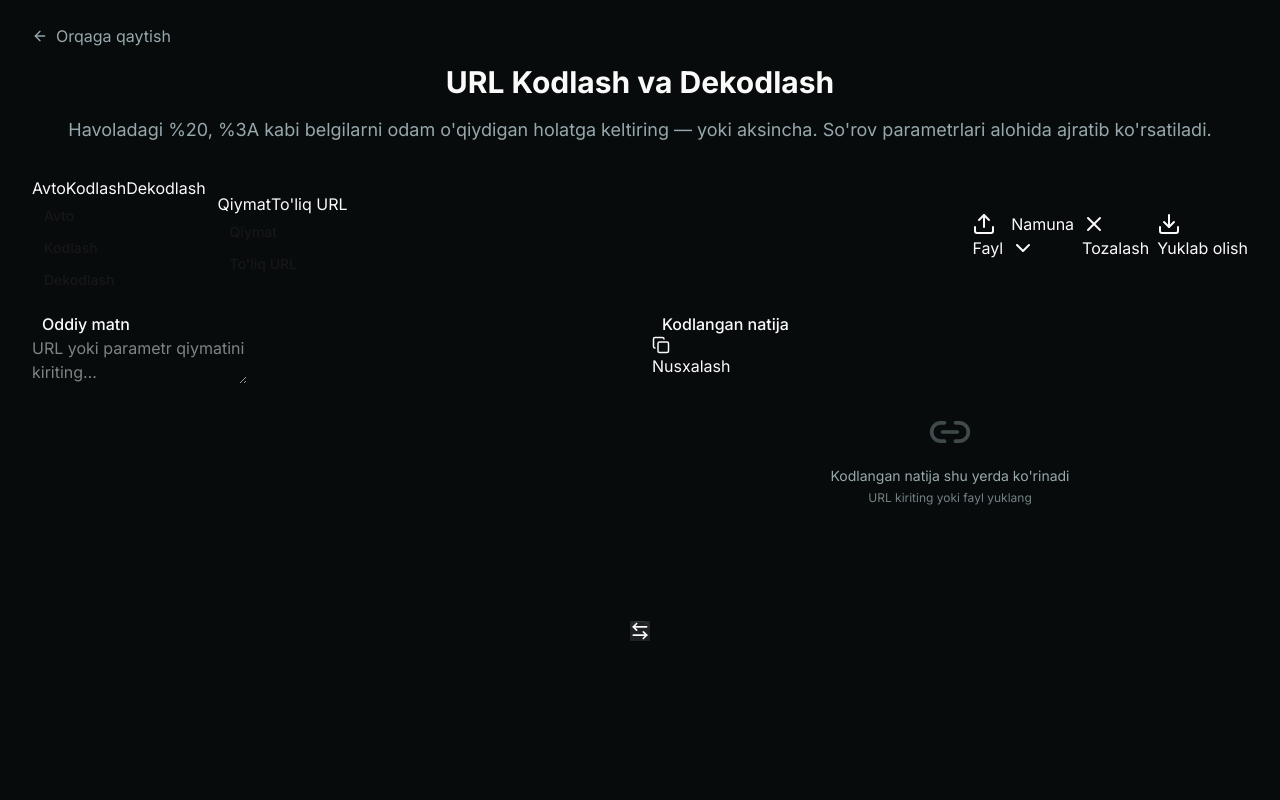
saying what happened › names the no-op instead of looking broken
Click the radio button labelled "Dekodlash" at (166, 188), box [126,178,206,198]
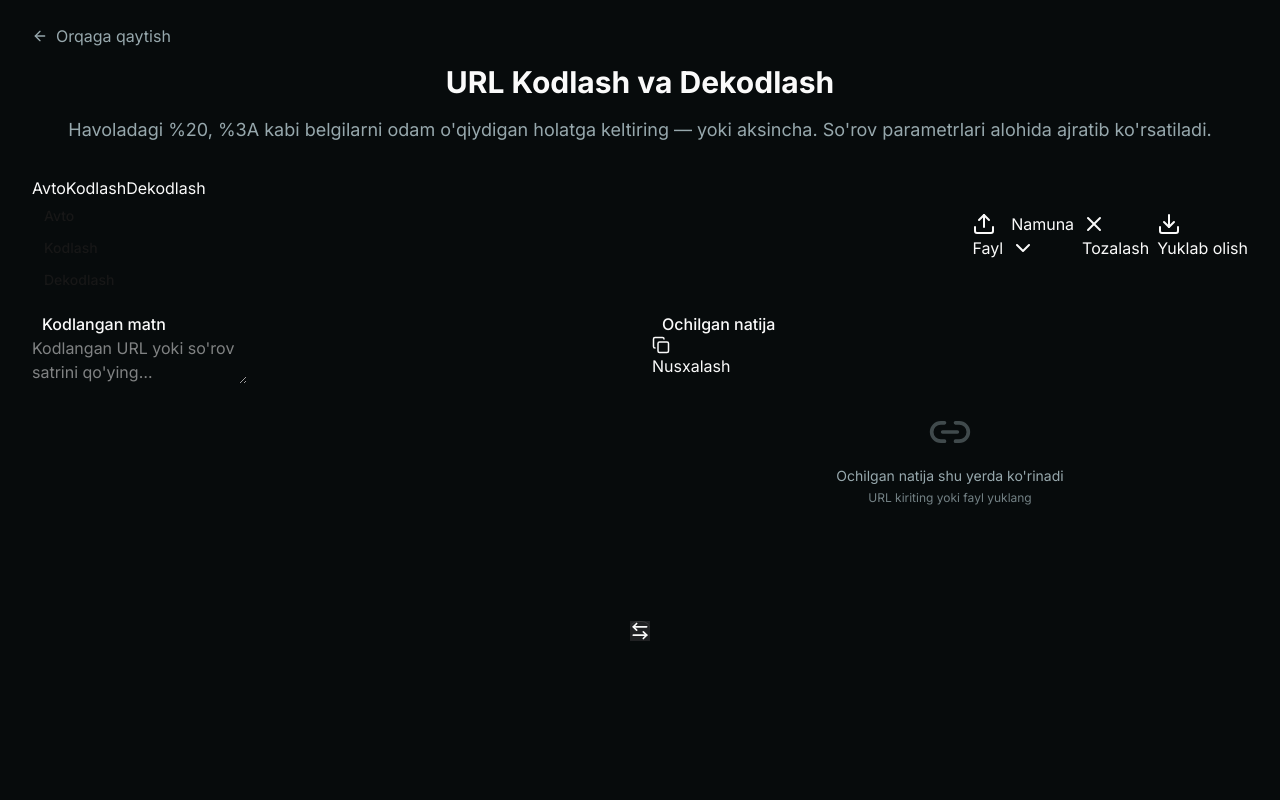
Type "https://webiston.uz/jira/boards/112" into the text box labelled "Kodlangan URL yoki so'rov satrini qo'ying…" at (140, 360), box [32,336,247,384]
(page scrolled)
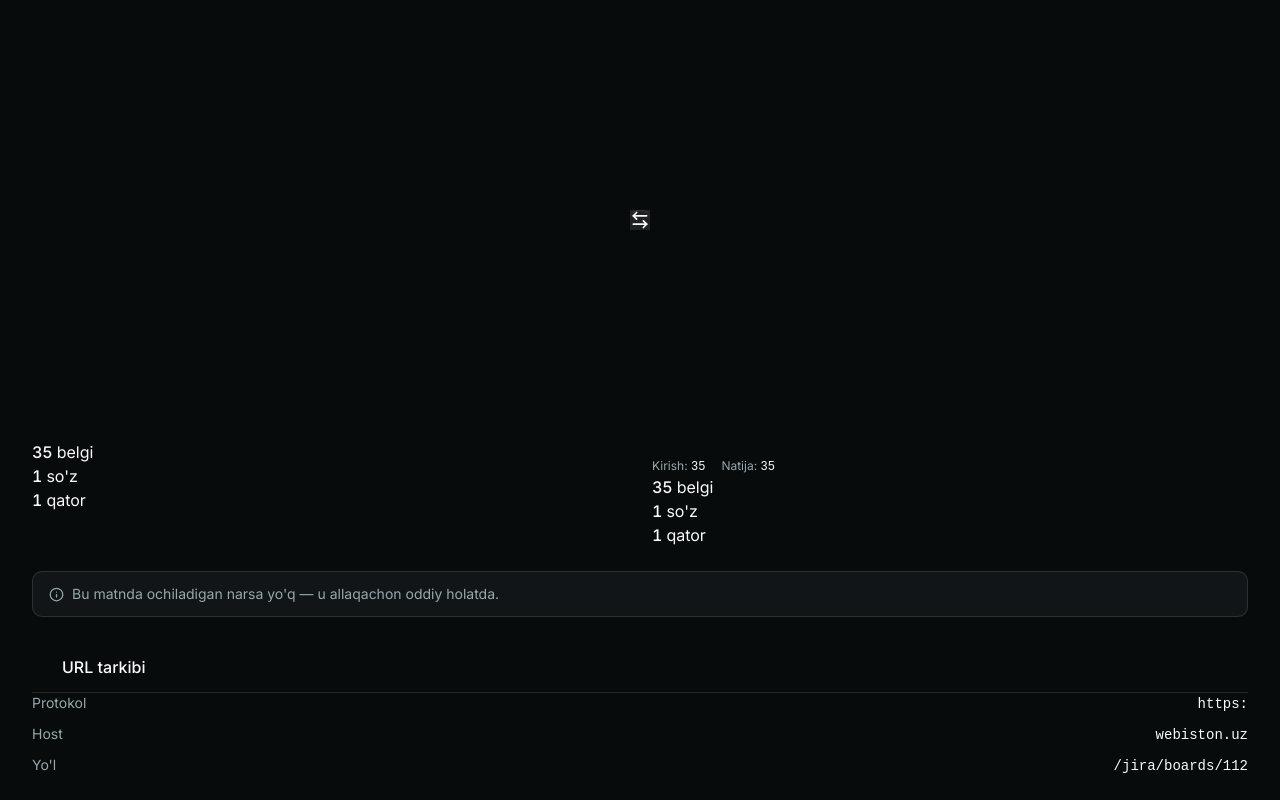
Result: the text "ochiladigan narsa yo'q" is shown at [72,585,499,602]
